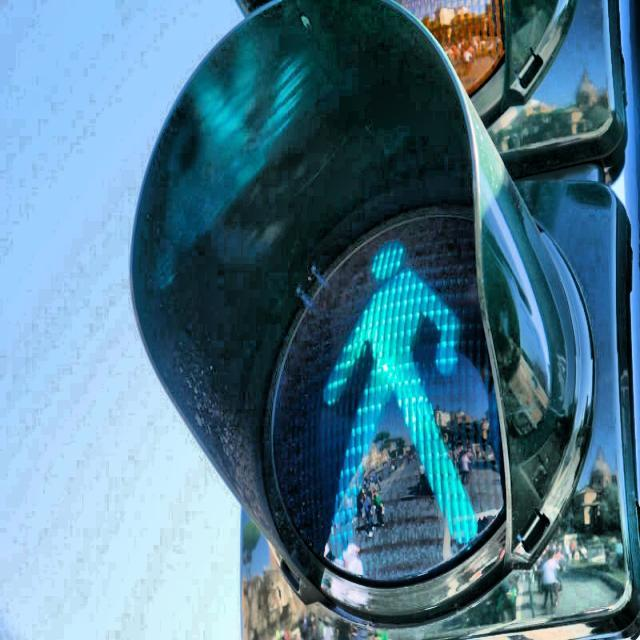green_light: (314, 234, 482, 566)
